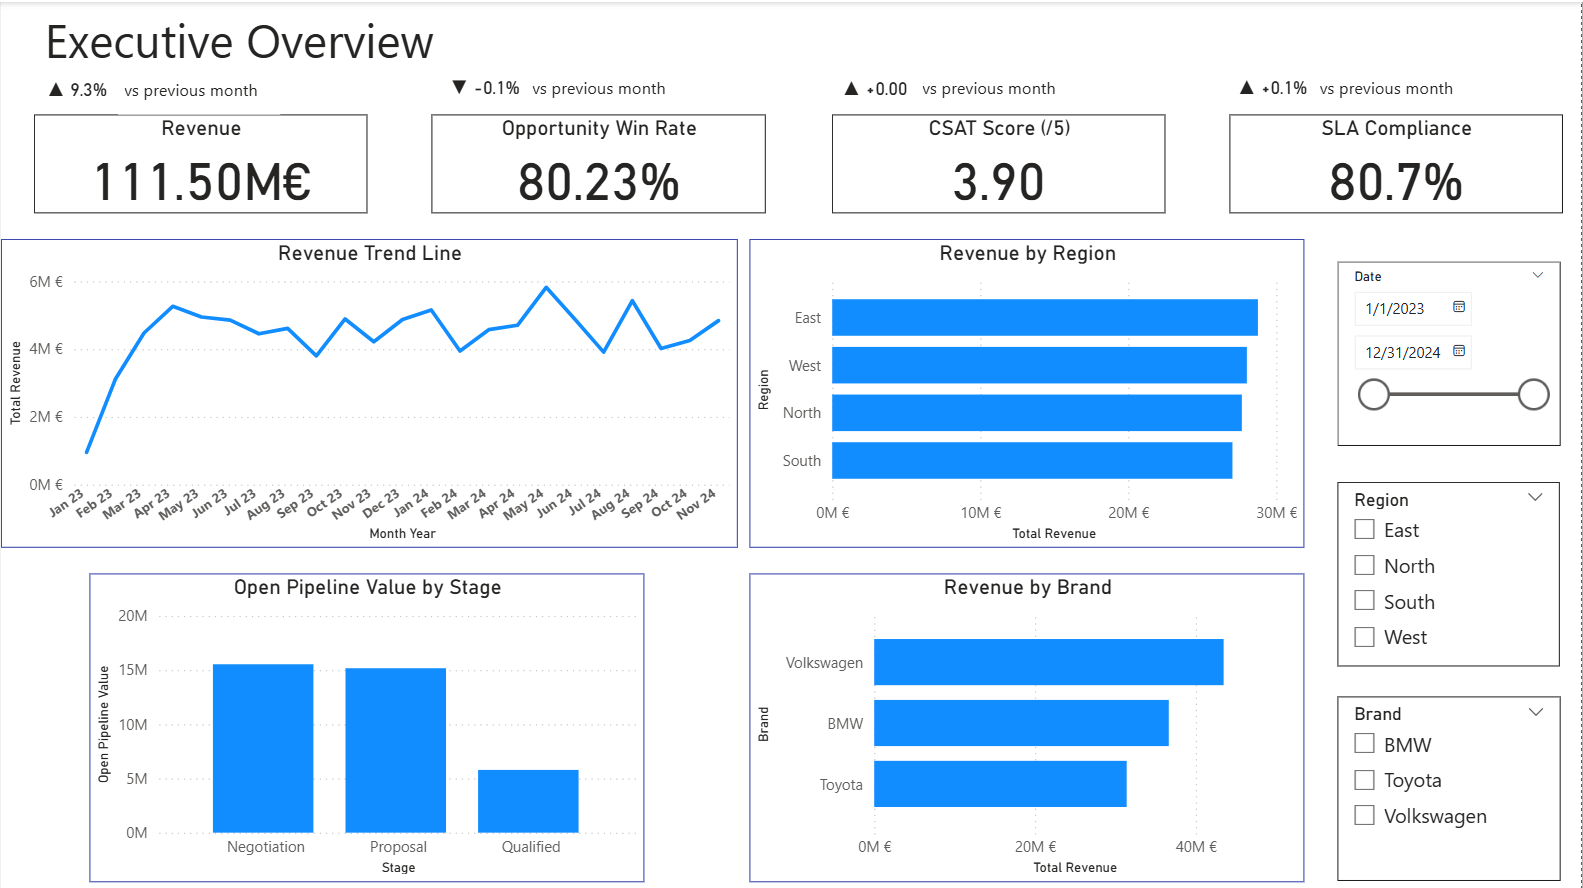

The page's visual inventory and layout, read from the dashboard file:
{"tool":"powerbi","page":{"name":"Executive Overview","canvas":[1280,720],"ordinal":0},"visuals":[{"type":"card","title":"Revenue","fields":{"Values":["raw_fact_orders.Total Revenue"]},"box":[26.7,91.1,269.7,80.2],"z":0},{"type":"card","title":"CSAT Score (/5)","fields":{"Values":["fct_case_resolution.CSAT Score"]},"box":[672.6,91.1,269.7,80.2],"z":1000},{"type":"card","title":"Opportunity Win Rate","fields":{"Values":["fct_pipeline.Opportunity Win Rate"]},"box":[349.1,91.1,270.9,80.2],"z":2000},{"type":"card","title":"SLA Compliance","fields":{"Values":["fct_case_resolution.SLA Compliance Rate"]},"box":[994.9,91.1,269.7,80.2],"z":3000},{"type":"lineChart","title":"Revenue Trend Line","fields":{"Category":["raw_dim_date.Month Year"],"Y":["raw_fact_orders.Total Revenue"]},"box":[0,191.9,596.4,249.9],"z":4000},{"type":"clusteredBarChart","title":"Revenue by Region","fields":{"Category":["raw_dim_dealer.region"],"Y":["raw_fact_orders.Total Revenue"]},"box":[606.7,191.9,449.6,249.9],"z":5000},{"type":"barChart","title":"Revenue by Brand","fields":{"Category":["raw_dim_vehicle.brand"],"Y":["raw_fact_orders.Total Revenue"]},"box":[606.7,462.5,449.6,249.9],"z":6000},{"type":"columnChart","fields":{"Category":["fct_pipeline.stage"],"Y":["fct_pipeline.Open Pipeline Value"]},"box":[72.1,462.5,449.6,249.9],"z":7000},{"type":"slicer","fields":{"Values":["raw_dim_date.full_date"]},"box":[1082.1,210,180.3,149.4],"z":8000},{"type":"slicer","fields":{"Values":["raw_dim_dealer.region"]},"box":[1082.4,388.7,179.8,149.4],"z":9000},{"type":"slicer","fields":{"Values":["raw_dim_vehicle.brand"]},"box":[1082.1,562.9,180.3,149.4],"z":10000},{"type":"textbox","box":[30.4,0,454.3,86.3],"z":11000},{"type":"card","fields":{"Values":["raw_fact_orders.Revenue MoM Label"]},"box":[26.7,55.9,68,31.6],"z":12000},{"type":"card","fields":{"Values":["raw_fact_orders.Win Rate MoM Label"]},"box":[357.2,54.7,68,31.6],"z":13000},{"type":"card","fields":{"Values":["raw_fact_orders.CSAT MoM Label"]},"box":[673,54.7,68,32.8],"z":14000},{"type":"card","fields":{"Values":["fct_case_resolution.SLA MoM Label"]},"box":[994.9,54.7,68,31.6],"z":15000},{"type":"textbox","box":[94.8,55.9,131.2,35.2],"z":16000},{"type":"textbox","box":[425.2,54.7,125.1,31.6],"z":17000},{"type":"textbox","box":[1063,54.7,130,31.6],"z":18000},{"type":"textbox","box":[741,54.7,174.9,31.6],"z":19000}]}

Visuals, with their boxes in screenshot pixels (x1, y1, x2, y2), scaled from the page's 1280x720 canvas onto the 1583x888 screenshot:
"Revenue" card: 33, 112, 367, 211
"CSAT Score (/5)" card: 832, 112, 1165, 211
"Opportunity Win Rate" card: 432, 112, 767, 211
"SLA Compliance" card: 1230, 112, 1564, 211
"Revenue Trend Line" lineChart: 0, 237, 738, 545
"Revenue by Region" clusteredBarChart: 750, 237, 1306, 545
"Revenue by Brand" barChart: 750, 570, 1306, 879
columnChart - fct_pipeline.stage x fct_pipeline.Open Pipeline Value: 89, 570, 645, 879
slicer - raw_dim_date.full_date: 1338, 259, 1561, 443
slicer - raw_dim_dealer.region: 1339, 479, 1561, 664
slicer - raw_dim_vehicle.brand: 1338, 694, 1561, 879
textbox: 38, 0, 599, 106
card - raw_fact_orders.Revenue MoM Label: 33, 69, 117, 108
card - raw_fact_orders.Win Rate MoM Label: 442, 67, 526, 106
card - raw_fact_orders.CSAT MoM Label: 832, 67, 916, 108
card - fct_case_resolution.SLA MoM Label: 1230, 67, 1315, 106
textbox: 117, 69, 279, 112
textbox: 526, 67, 681, 106
textbox: 1315, 67, 1475, 106
textbox: 916, 67, 1133, 106
